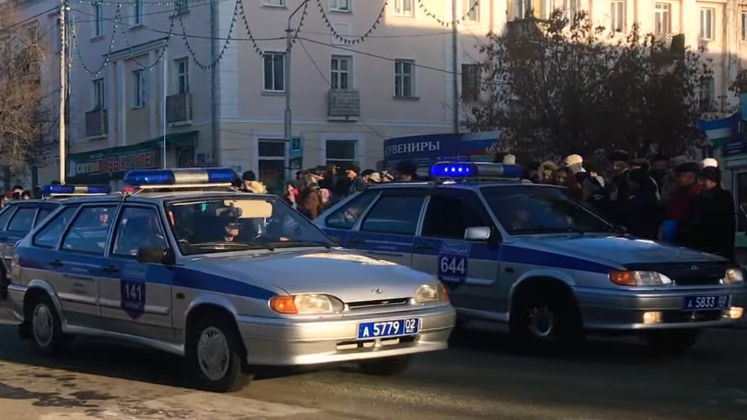police car: (9, 166, 456, 394), (311, 160, 744, 350)
